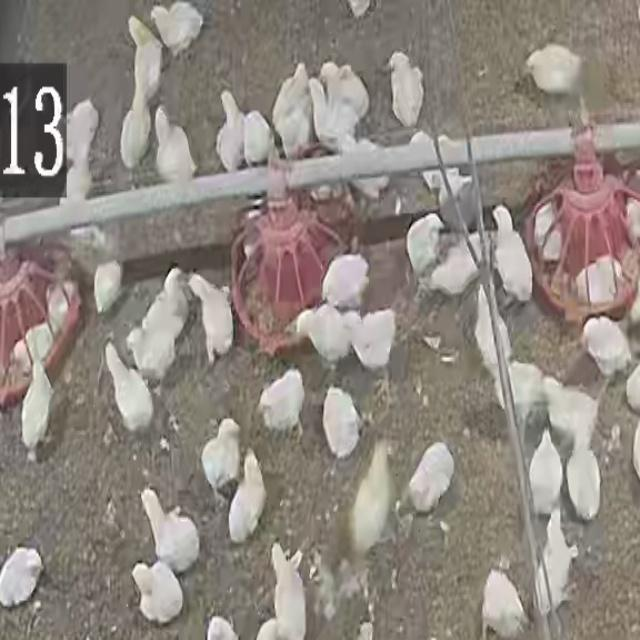chicken: (348, 442, 396, 560), (138, 485, 198, 576), (104, 339, 154, 435), (186, 271, 235, 365), (490, 205, 535, 307), (542, 379, 600, 456), (537, 509, 578, 613), (263, 543, 307, 639), (272, 63, 314, 159), (296, 302, 356, 369), (20, 342, 55, 456), (409, 441, 458, 519), (130, 558, 186, 626), (333, 137, 389, 203), (258, 368, 306, 443), (64, 98, 100, 198), (228, 452, 267, 544), (481, 567, 530, 640), (497, 361, 548, 431), (522, 43, 584, 100), (307, 78, 356, 150), (426, 237, 481, 301), (472, 289, 509, 384), (140, 262, 186, 338), (580, 314, 632, 379), (154, 108, 198, 184), (201, 418, 242, 498), (348, 308, 396, 376), (319, 59, 372, 119), (528, 428, 564, 516), (149, 1, 204, 58), (563, 441, 601, 523), (320, 252, 371, 312), (405, 212, 446, 286), (387, 50, 425, 128), (322, 386, 362, 460), (131, 15, 164, 104), (0, 545, 43, 608), (216, 90, 248, 174), (572, 256, 624, 306), (128, 328, 176, 381), (120, 106, 151, 171), (242, 107, 275, 168), (93, 260, 124, 315), (532, 197, 558, 258), (46, 278, 73, 335), (24, 319, 56, 367), (205, 616, 240, 639), (346, 0, 372, 19)
